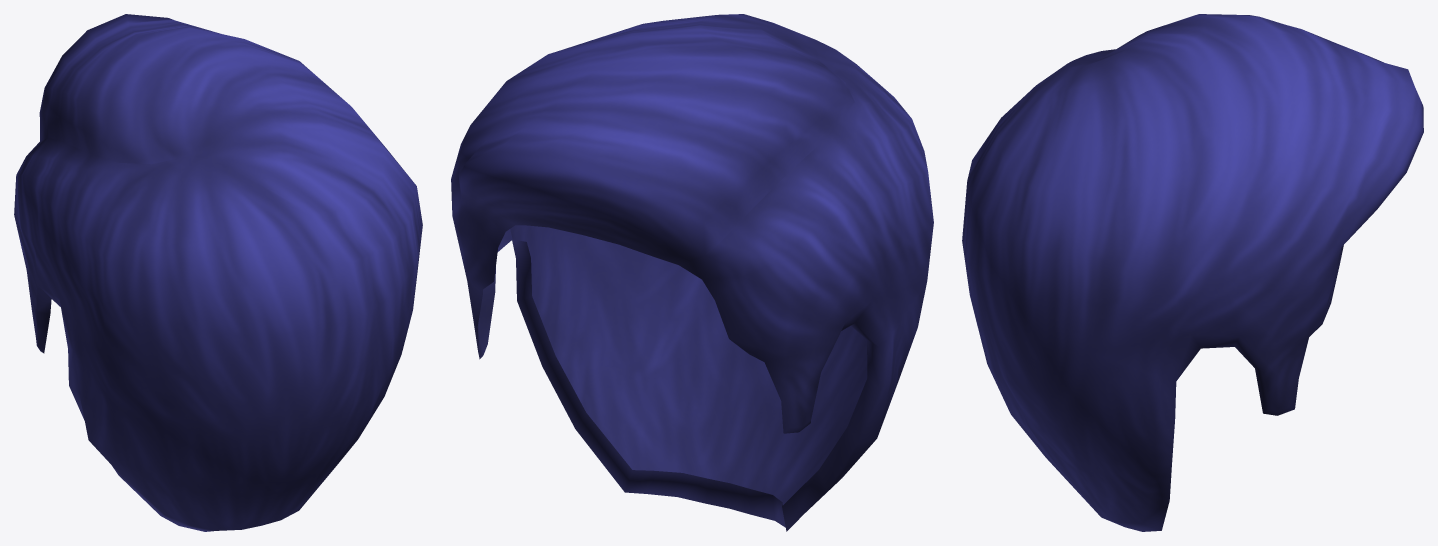
Rendered from Hair_Male_002_textured_blue.glb.
3 renders of one model, left to right at view 1: azimuth 30°, elevation 25°; view 2: azimuth 150°, elevation 25°; view 3: azimuth 270°, elevation 25°, orthographic. The views are drawn at different scales.
Parts seen in each view (by area): view 1: Hair_Male_002; view 2: Hair_Male_002; view 3: Hair_Male_002.
Boxes of the visible parts, x1,y1,x2,y2 form: Hair_Male_002: [14, 14, 422, 531]; Hair_Male_002: [451, 14, 933, 531]; Hair_Male_002: [962, 14, 1423, 531].
Bounding box in the file's own units: 0.1882 × 0.2415 × 0.2192.
Materials: 1 (1 with a texture image).
